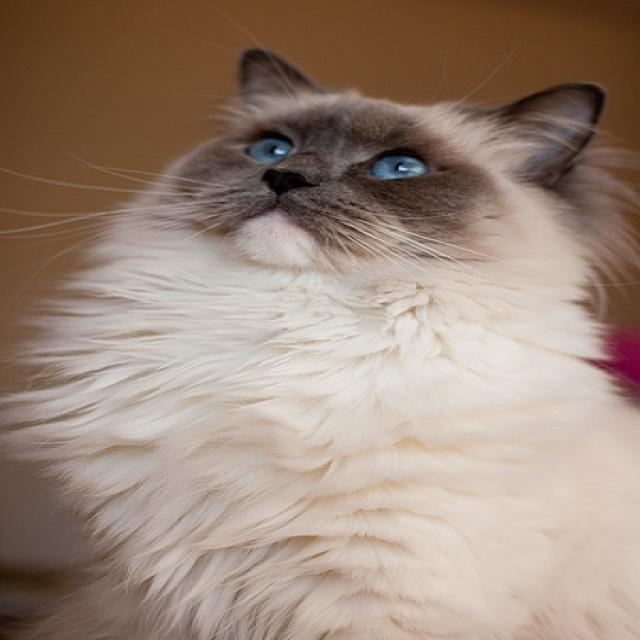Ragdoll: (0, 38, 640, 640)
